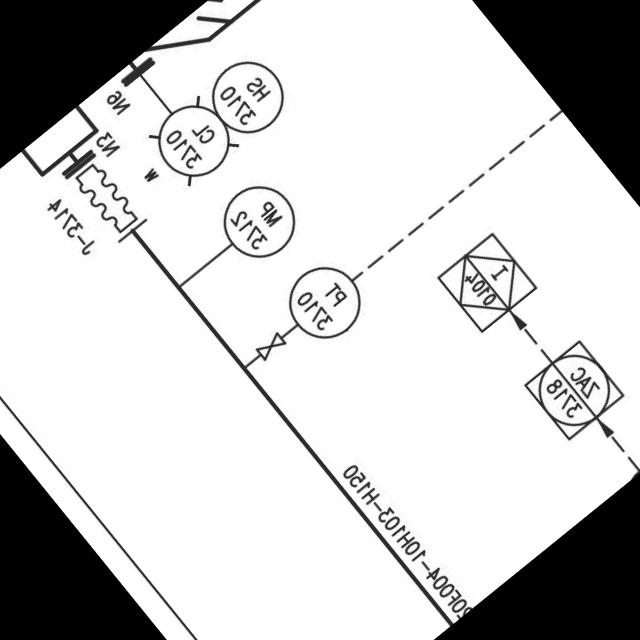EJ: (61, 150, 152, 248)
GV: (247, 322, 293, 367)
